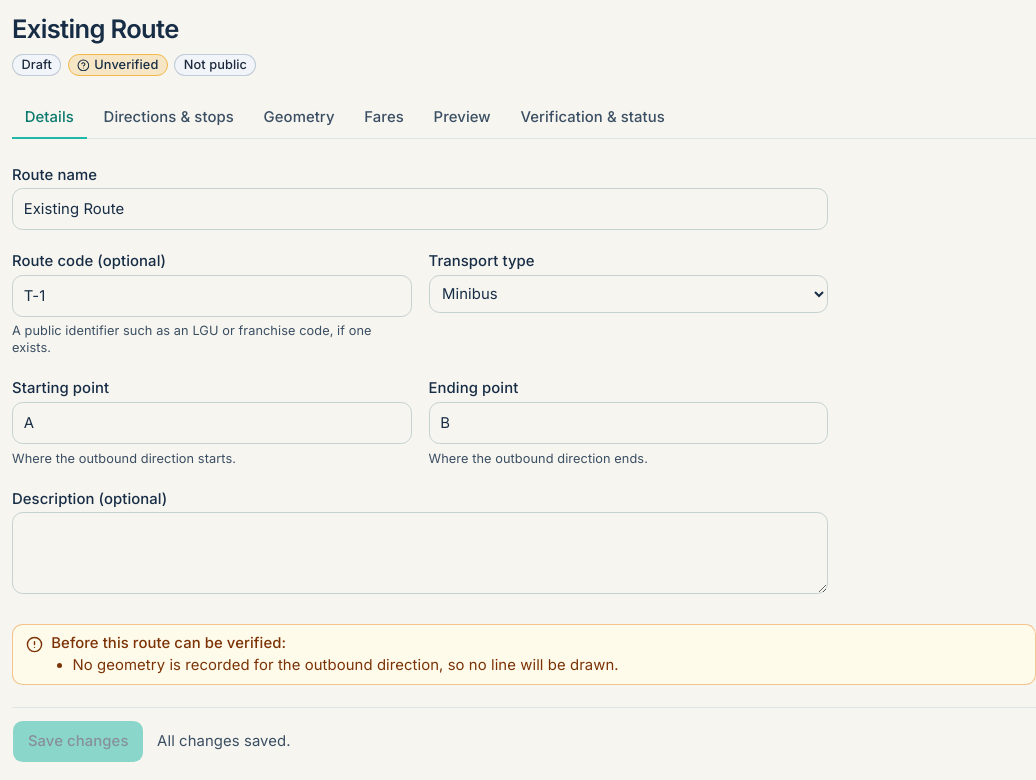
Test: an existing route › tracks unsaved changes, warns on leaving, and saves them
Type " renamed" into the field labelled "Route name" at (420, 209), box [12,188,828,230]
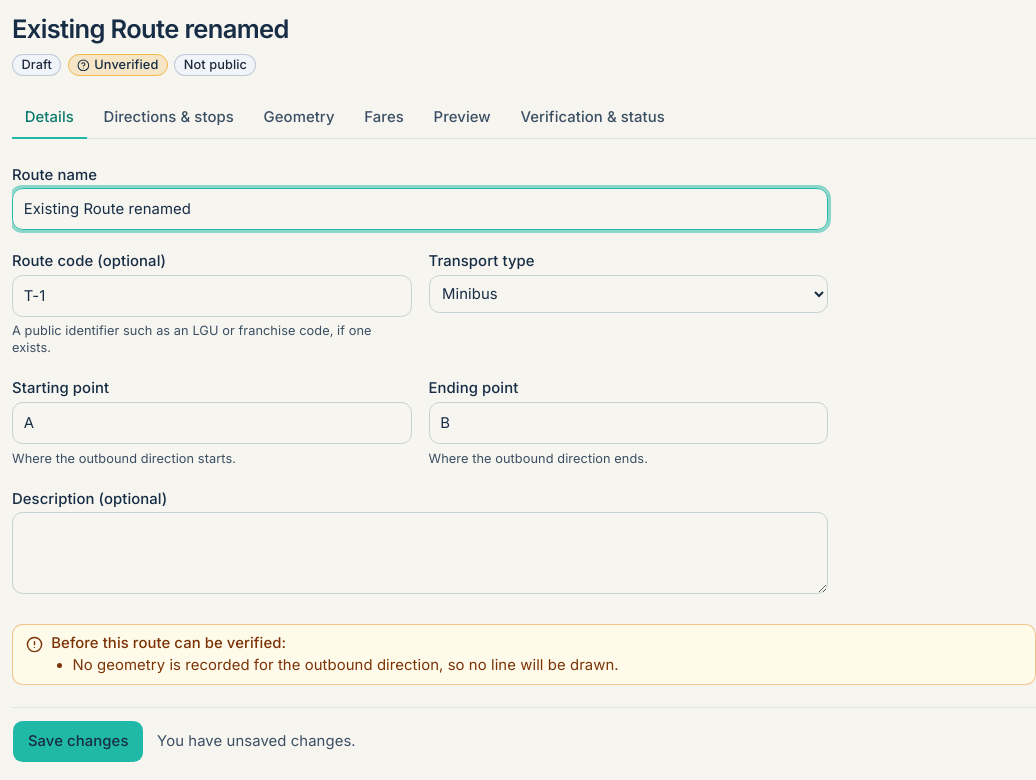
Now the text "You have unsaved changes." is shown, box [157,731,356,752]
Now the button "Save changes" is enabled
Click the button "Save changes" at (78, 742), box [12,720,144,763]
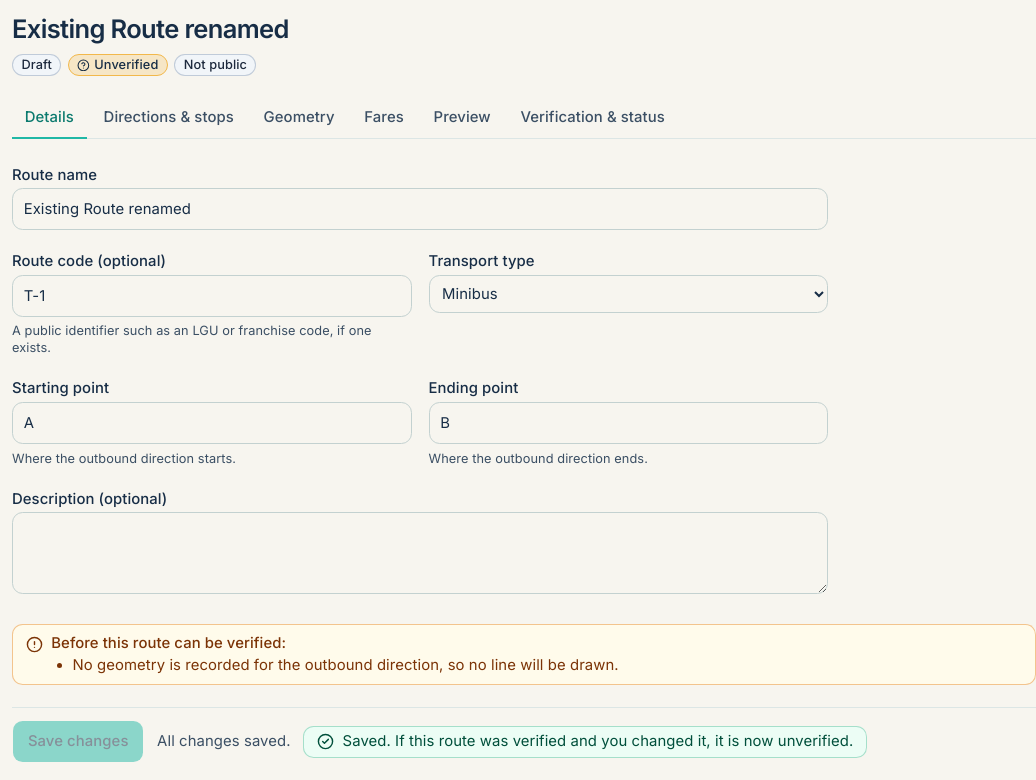
Now the text "All changes saved." is shown, box [157,731,290,752]
